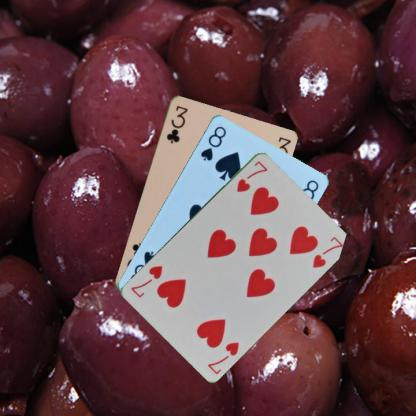3c: (163, 103, 189, 144)
7h: (204, 339, 240, 376), (234, 158, 269, 193)
8s: (198, 123, 228, 162)
